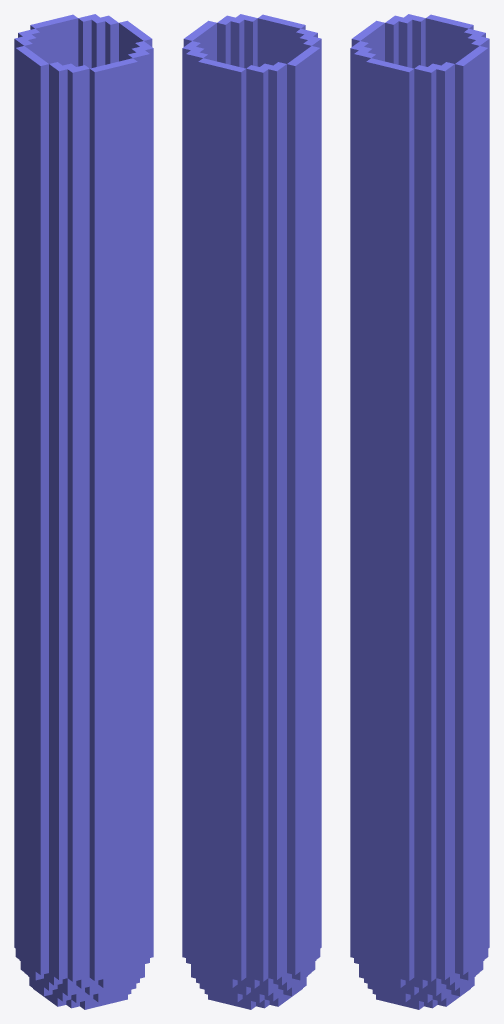
File: Test Tube Rack2-4-1.fbx
The picture shows the model from 3 angles, left to right: view 1: azimuth 30°, elevation 25°; view 2: azimuth 150°, elevation 25°; view 3: azimuth 330°, elevation 25°; orthographic projection.
Parts seen in each view (by area): view 1: Test Tube Rack2-4-1.001; view 2: Test Tube Rack2-4-1.001; view 3: Test Tube Rack2-4-1.001.
Boxes of the visible parts, x1,y1,x2,y2 form: Test Tube Rack2-4-1.001: (14, 14, 153, 1009); Test Tube Rack2-4-1.001: (182, 14, 321, 1009); Test Tube Rack2-4-1.001: (350, 14, 489, 1009).
Size of the model in its own units: 1.3 by 10.5 by 1.3.
